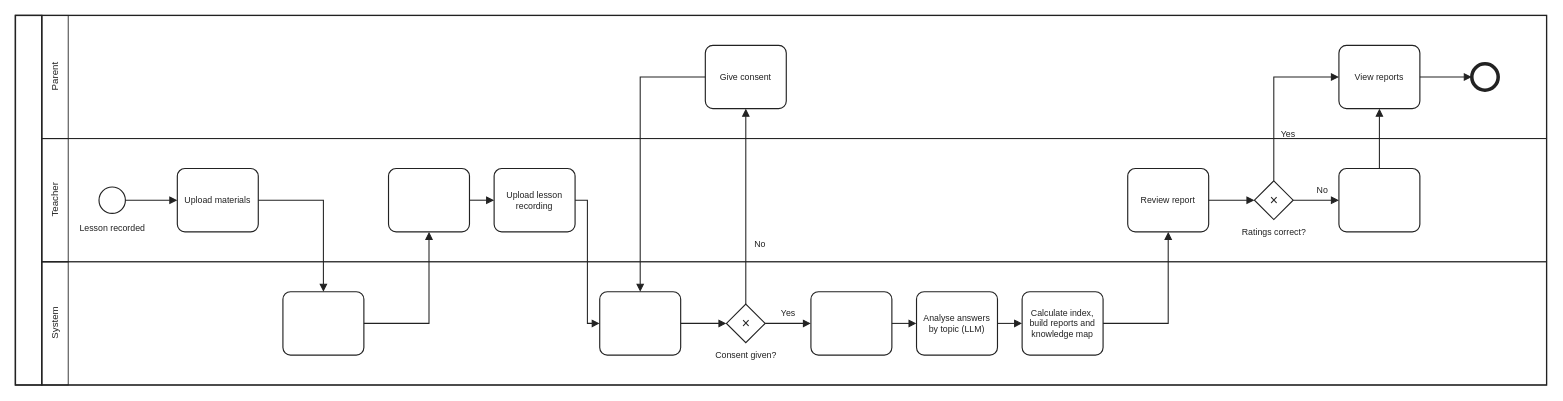
This 1563x401 diagram has some shape labels left out. Here are the shapes that lost their labels. From the top down, the centre of each, then its label:
point (28, 199): DATERA EDU: lesson analysis
point (429, 200): Confirm topics
point (1379, 200): Change topic status
point (323, 323): Split materials into topics
point (640, 323): Check consent
point (851, 323): Clean audio, recognise speech, separate speakers
